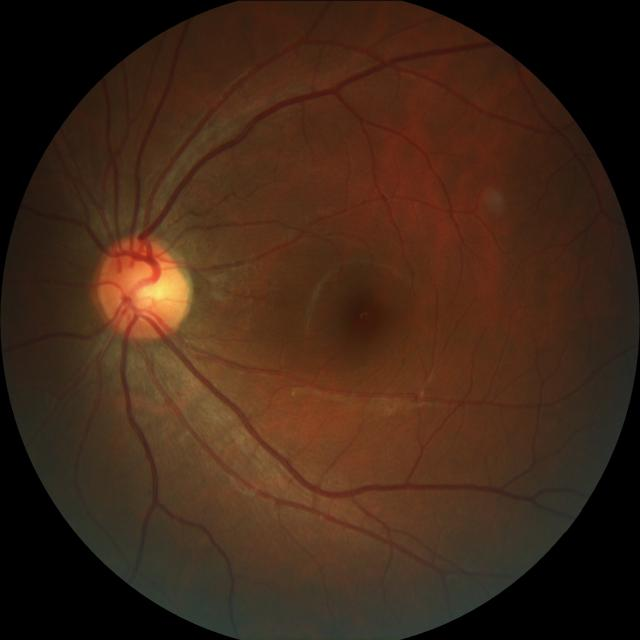OC: (117, 260, 164, 312)
OD: (95, 235, 189, 340)
